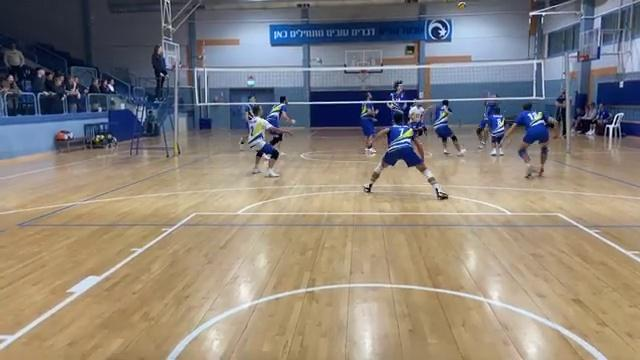ball: (453, 2, 470, 11)
